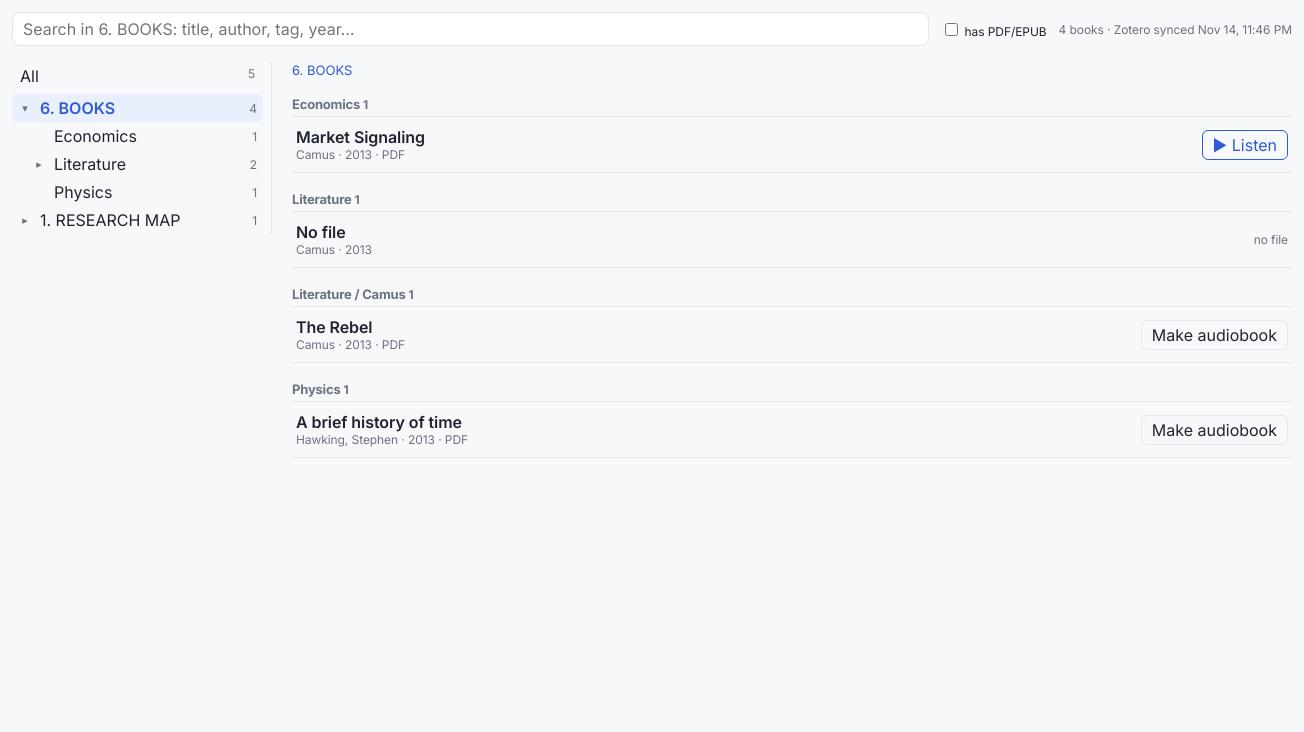
Test case: MyBooks › browses folders by level, searches, requests and listens
Later steps or results of the test are not shown.
Expected: the text "The Rebel" is shown, [296, 317, 372, 337]
Expected: the text "Handbook of AR" is not shown
Step 1. Click the button named "Expand Literature" → (39, 164), box [30, 157, 48, 171]
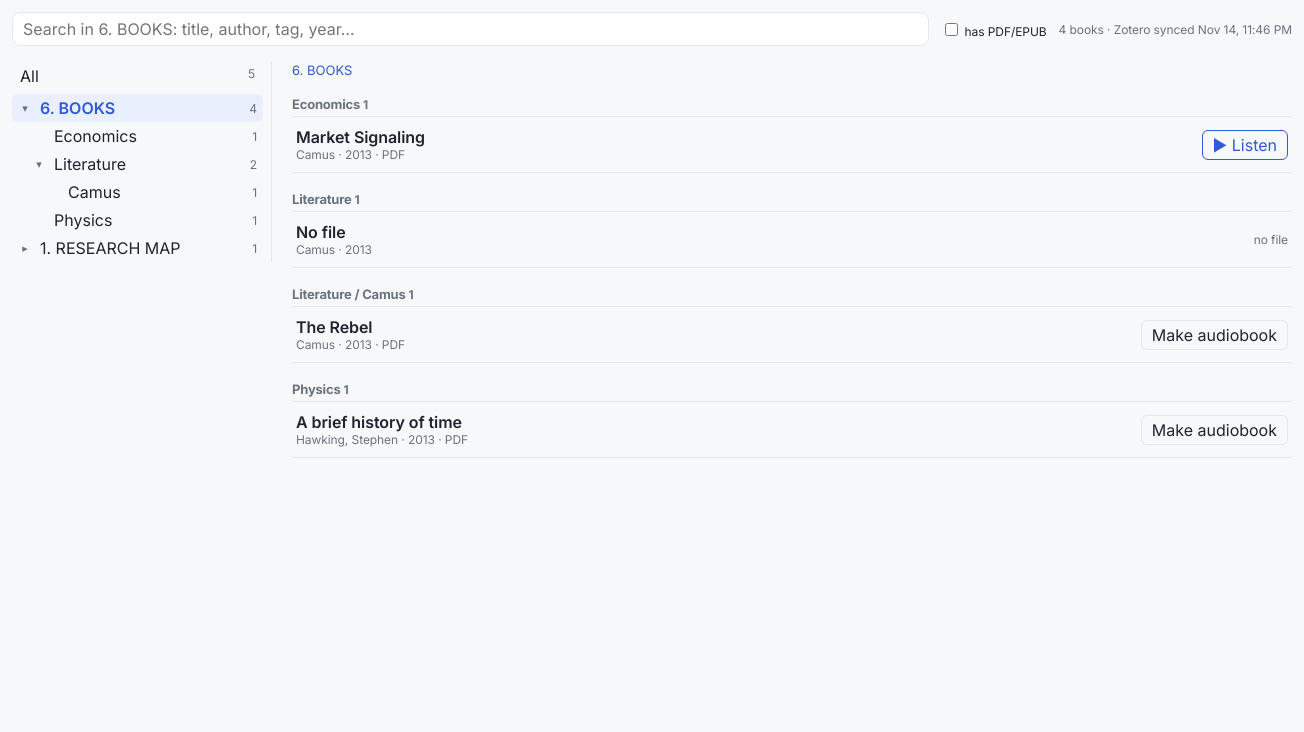
Step 2. Click the button "Camus" → (157, 192), box [66, 178, 248, 206]
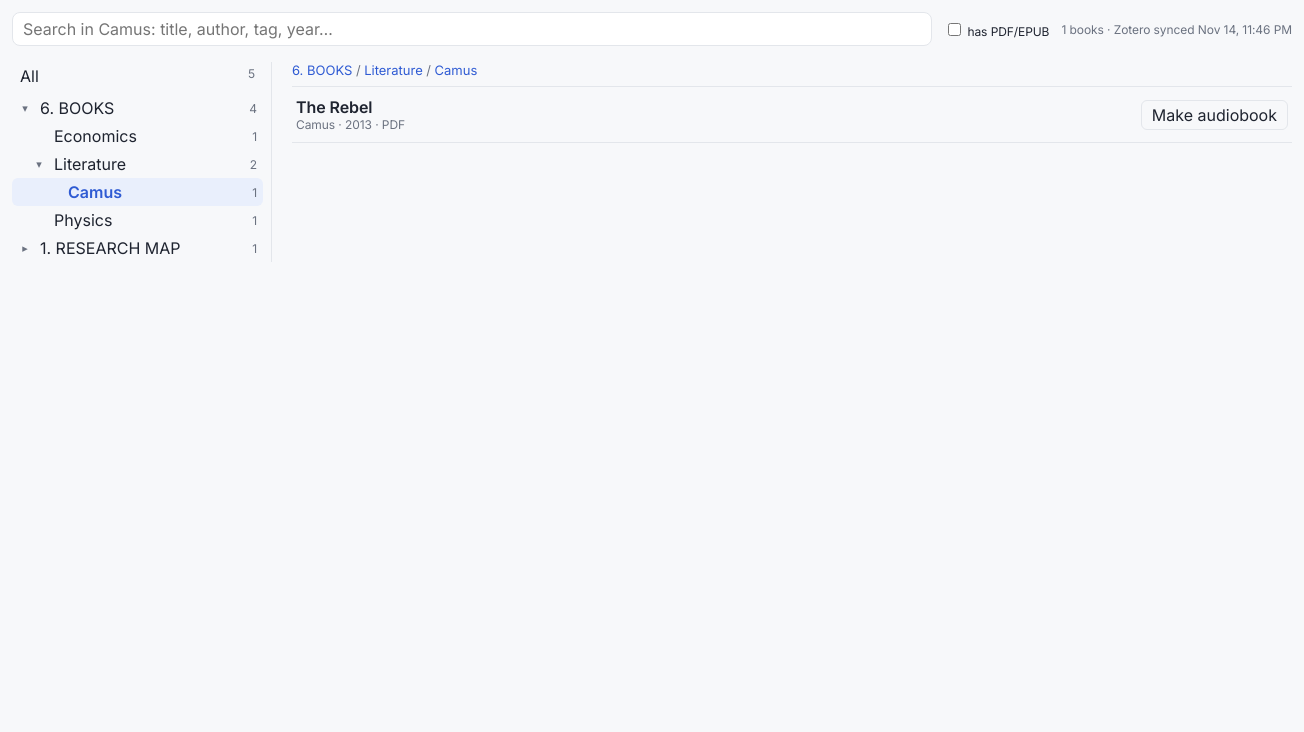
Expected: the text "The Rebel" is shown, [296, 97, 372, 117]
Expected: the text "No file" is gone
Step 3. Click the 2nd button "Literature" → (149, 164), box [52, 150, 246, 178]
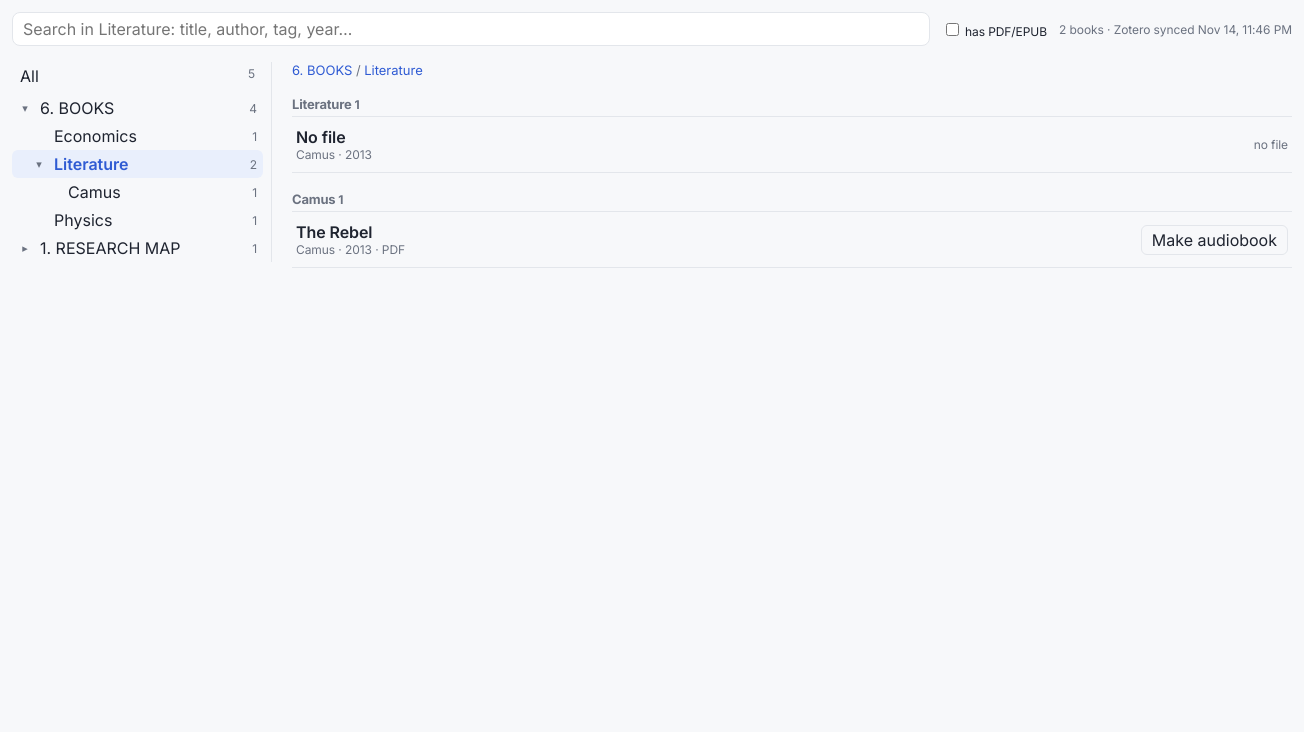
Expected: the text "No file" is shown, [296, 127, 346, 147]
Step 4. Click the button "All 5" → (138, 76), box [12, 62, 263, 90]
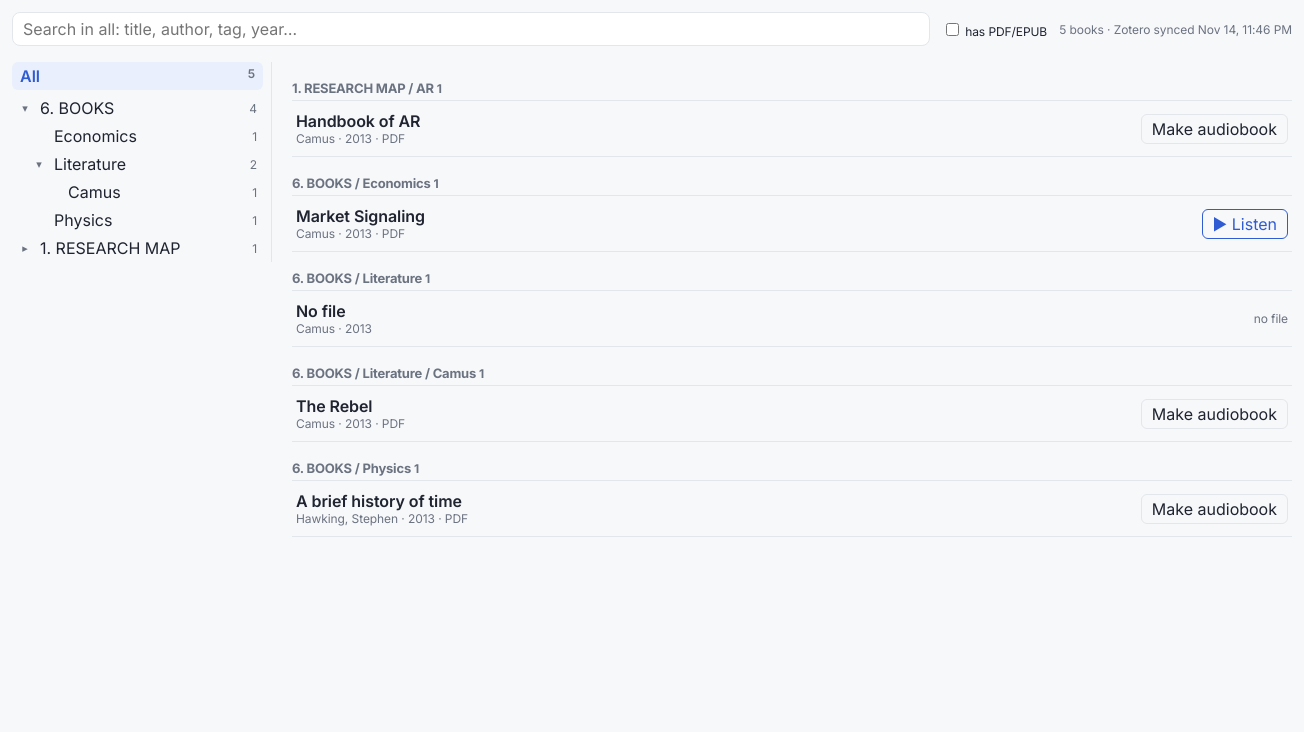
Step 5. Type "handbook" into the search field named "Search books" → (471, 29), box [12, 12, 930, 46]
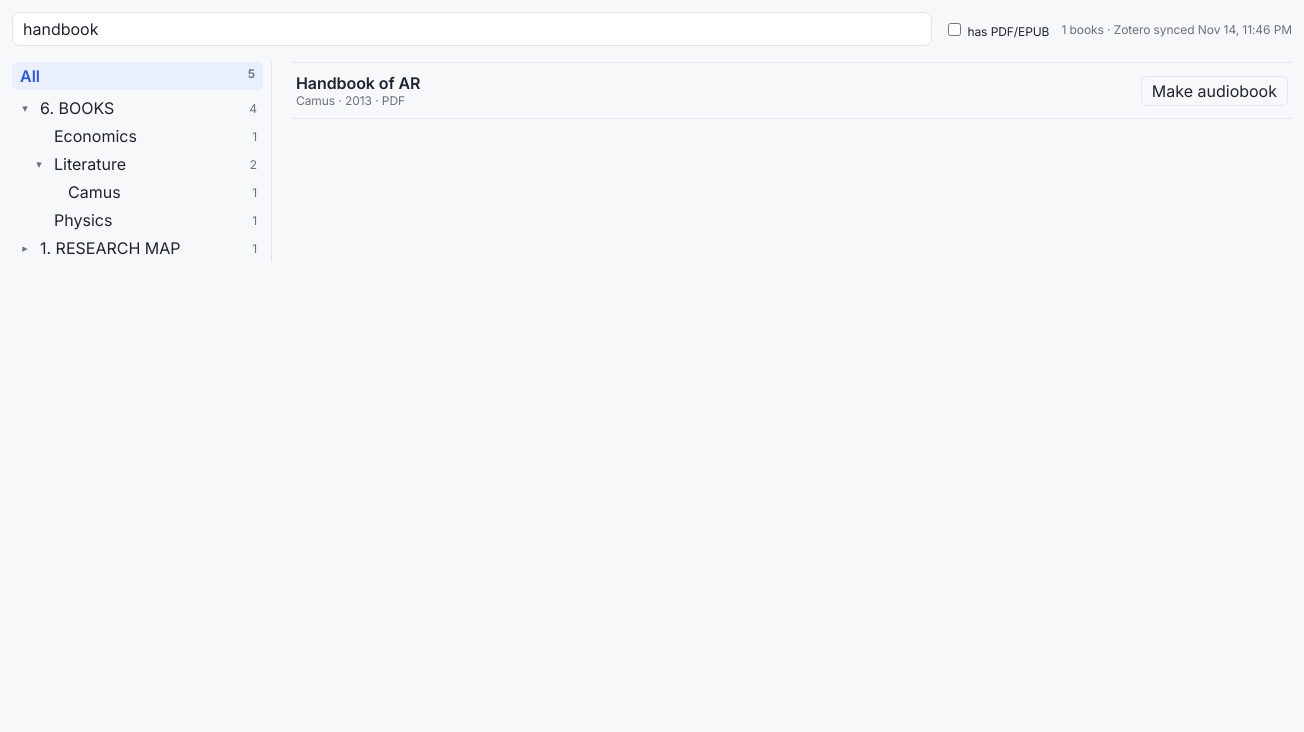
Expected: the text "Handbook of AR" is shown, [296, 73, 420, 93]
